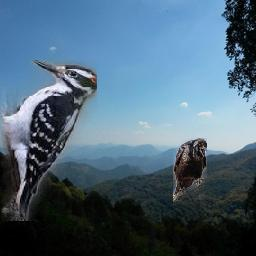Crow: (173, 139, 207, 206)
Woodpecker: (1, 59, 97, 221)
